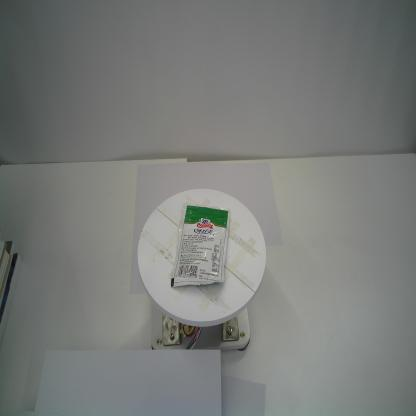Seasoner: (168, 202, 232, 290)
